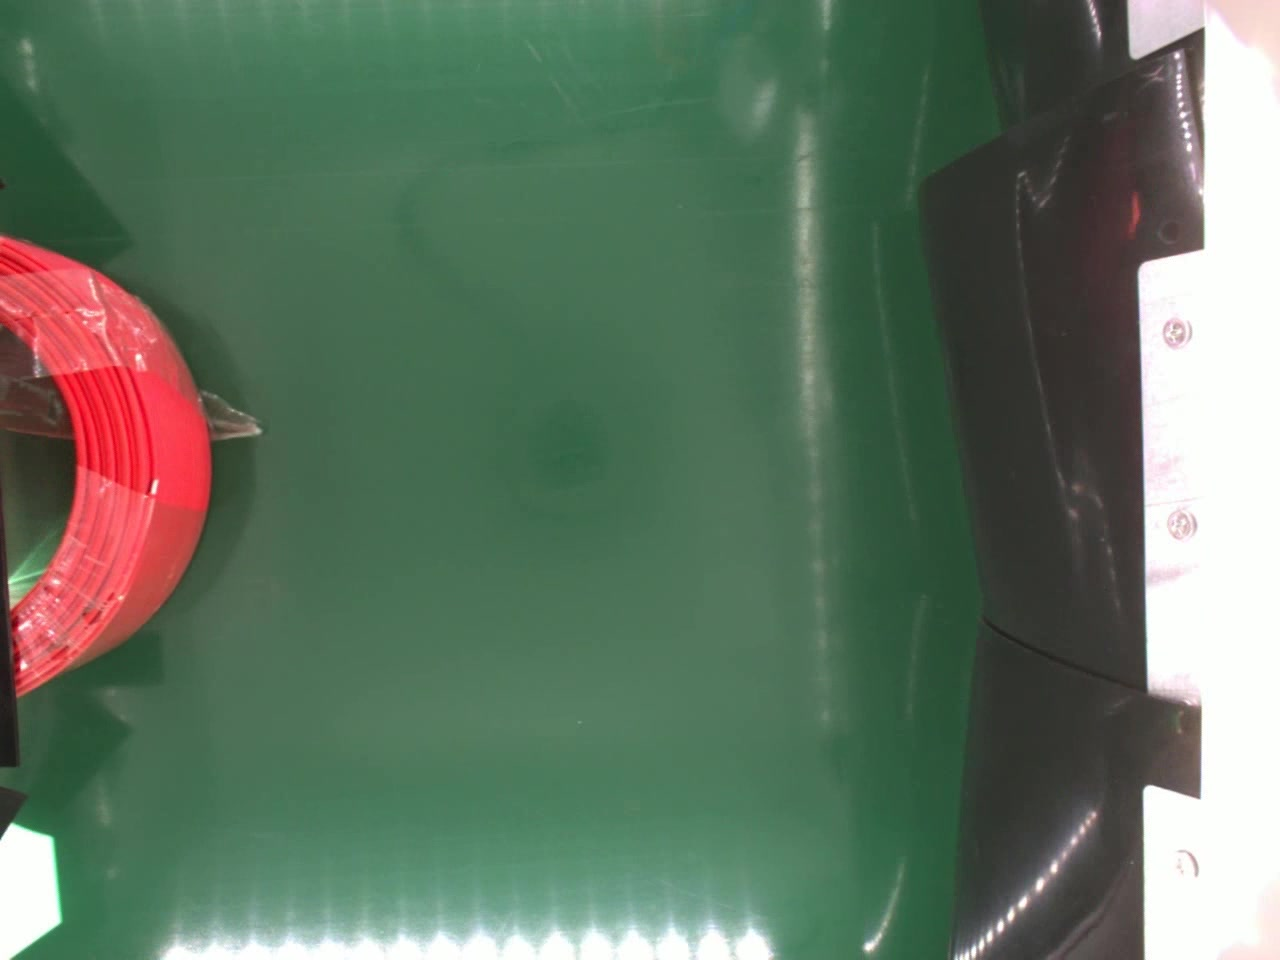red: (0, 231, 211, 697)
